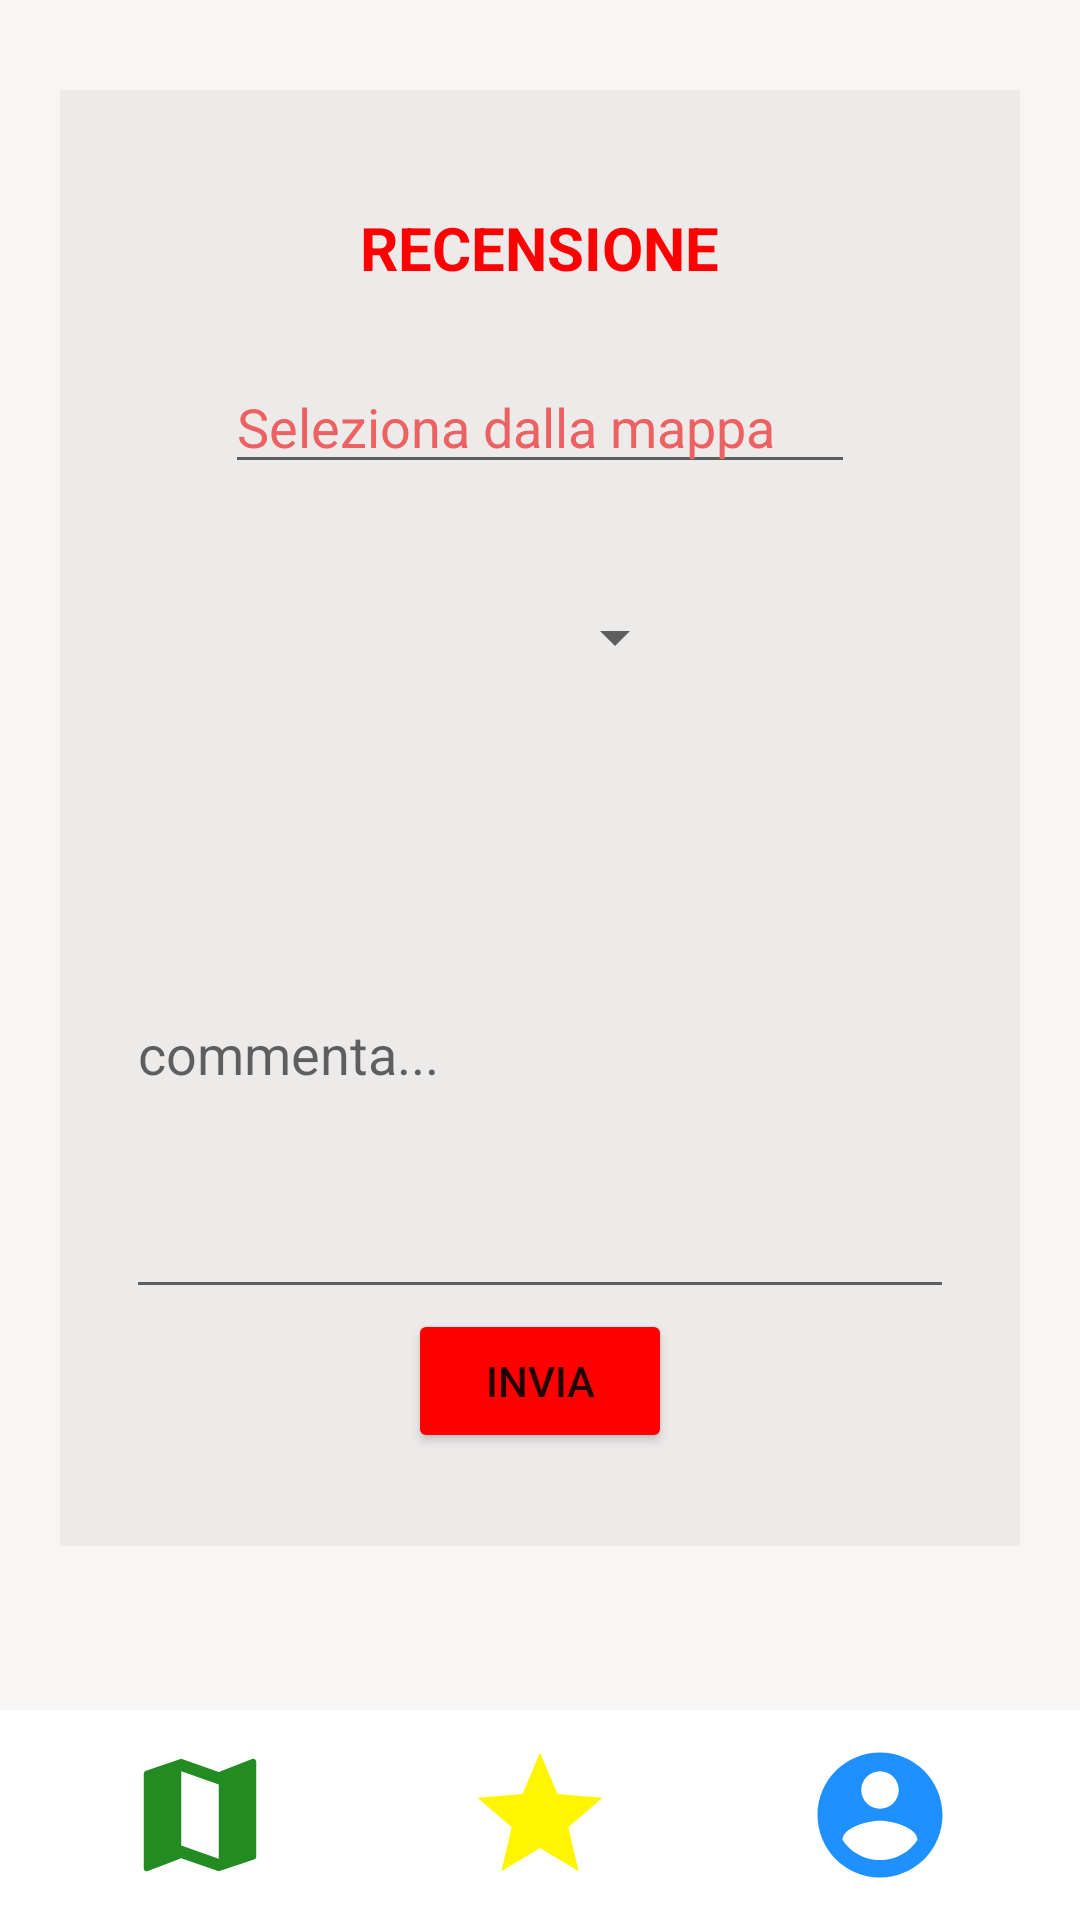

Screen size 1080 x 1920. Icon name, then its center in pixels as (x=x, y=y):
account circle: (x=880, y=1815)
map: (x=200, y=1815)
star: (x=540, y=1812)
